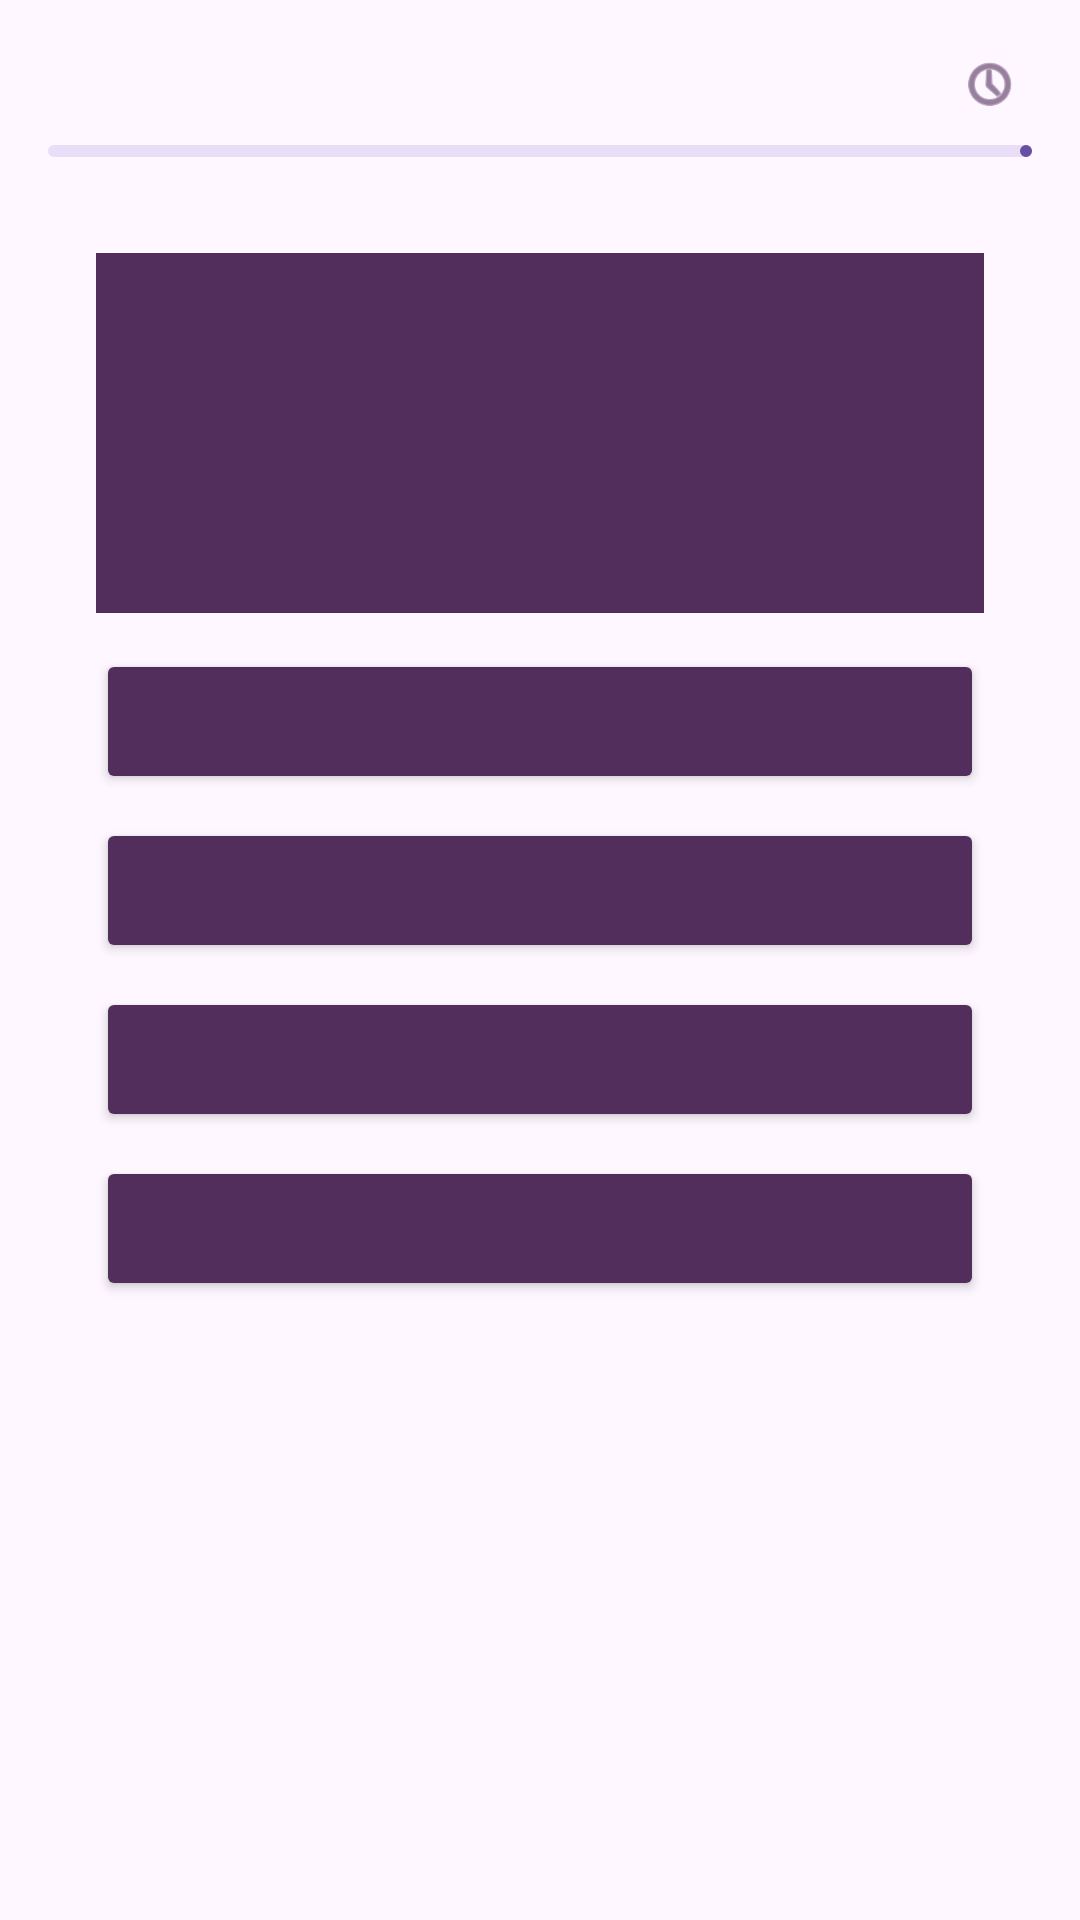

Icon click points for this 1080px×1920px phone screenshot, format point (x, y):
recent history: point (989, 84)
